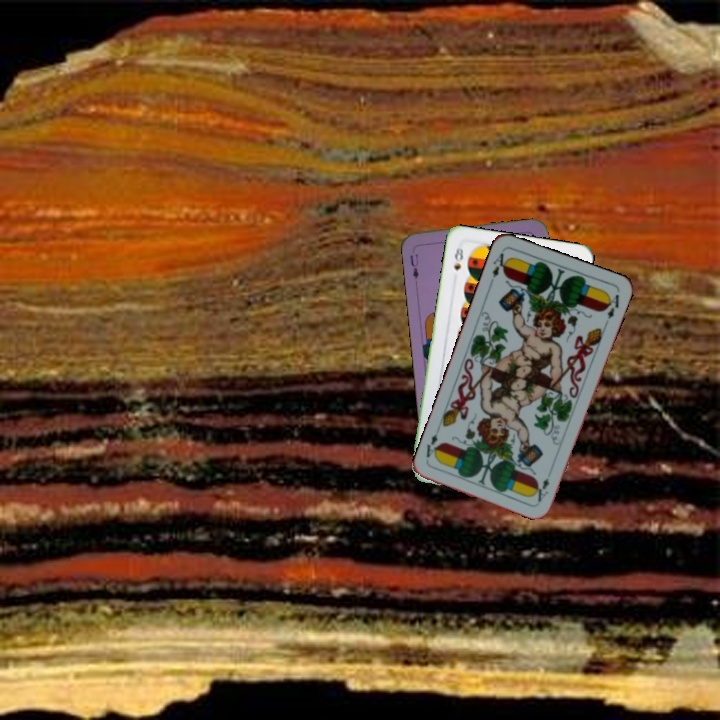EA: (486, 249, 511, 287), (533, 474, 552, 505)
EU: (406, 250, 421, 282)
S8: (450, 242, 466, 273)
